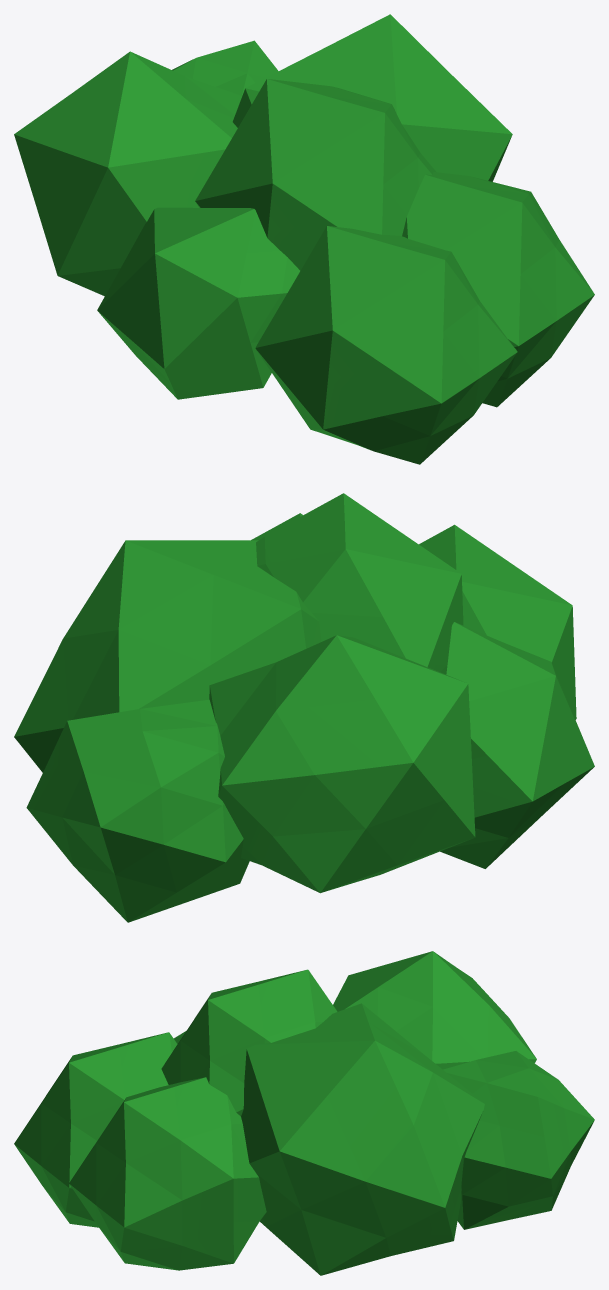
The model's file is bush3.fbx.
3 views of the same model, one above another, from view 1: azimuth 30°, elevation 25°; view 2: azimuth 150°, elevation 25°; view 3: azimuth 270°, elevation 25° (orthographic). The views are drawn at different scales.
Parts seen in each view (by area): view 1: Icosphere.021; view 2: Icosphere.021; view 3: Icosphere.021.
Boxes of the visible parts, left/top/right/bottom form: Icosphere.021: left=14, top=14, right=594, bottom=464; Icosphere.021: left=14, top=493, right=594, bottom=922; Icosphere.021: left=14, top=951, right=594, bottom=1275.
Size of the model in its own units: 205 by 141 by 300.
